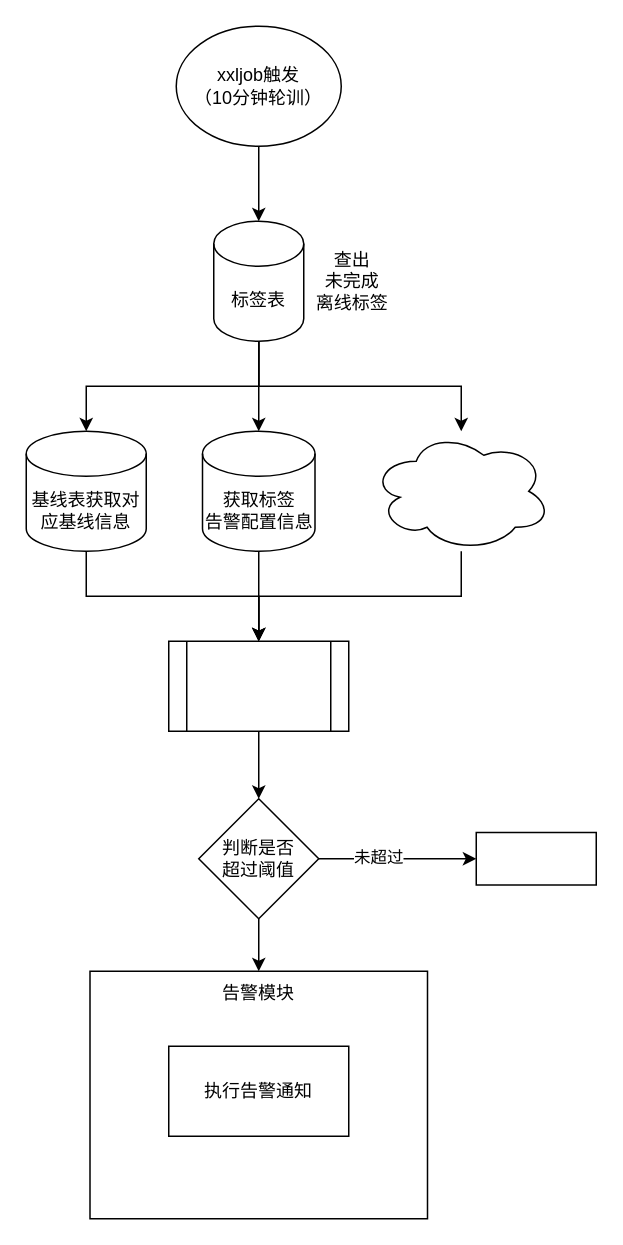
The diagram is 623 pixels wide and 1245 high, and some of its shapes have lost their labels. Each missing label, with the centre of its shape:
"dataworks 获取上游表 完成时间" belongs at point 460,490.
"结束返回" belongs at point 535,858.
"计算出告警、 预警时间" belongs at point 258,685.
